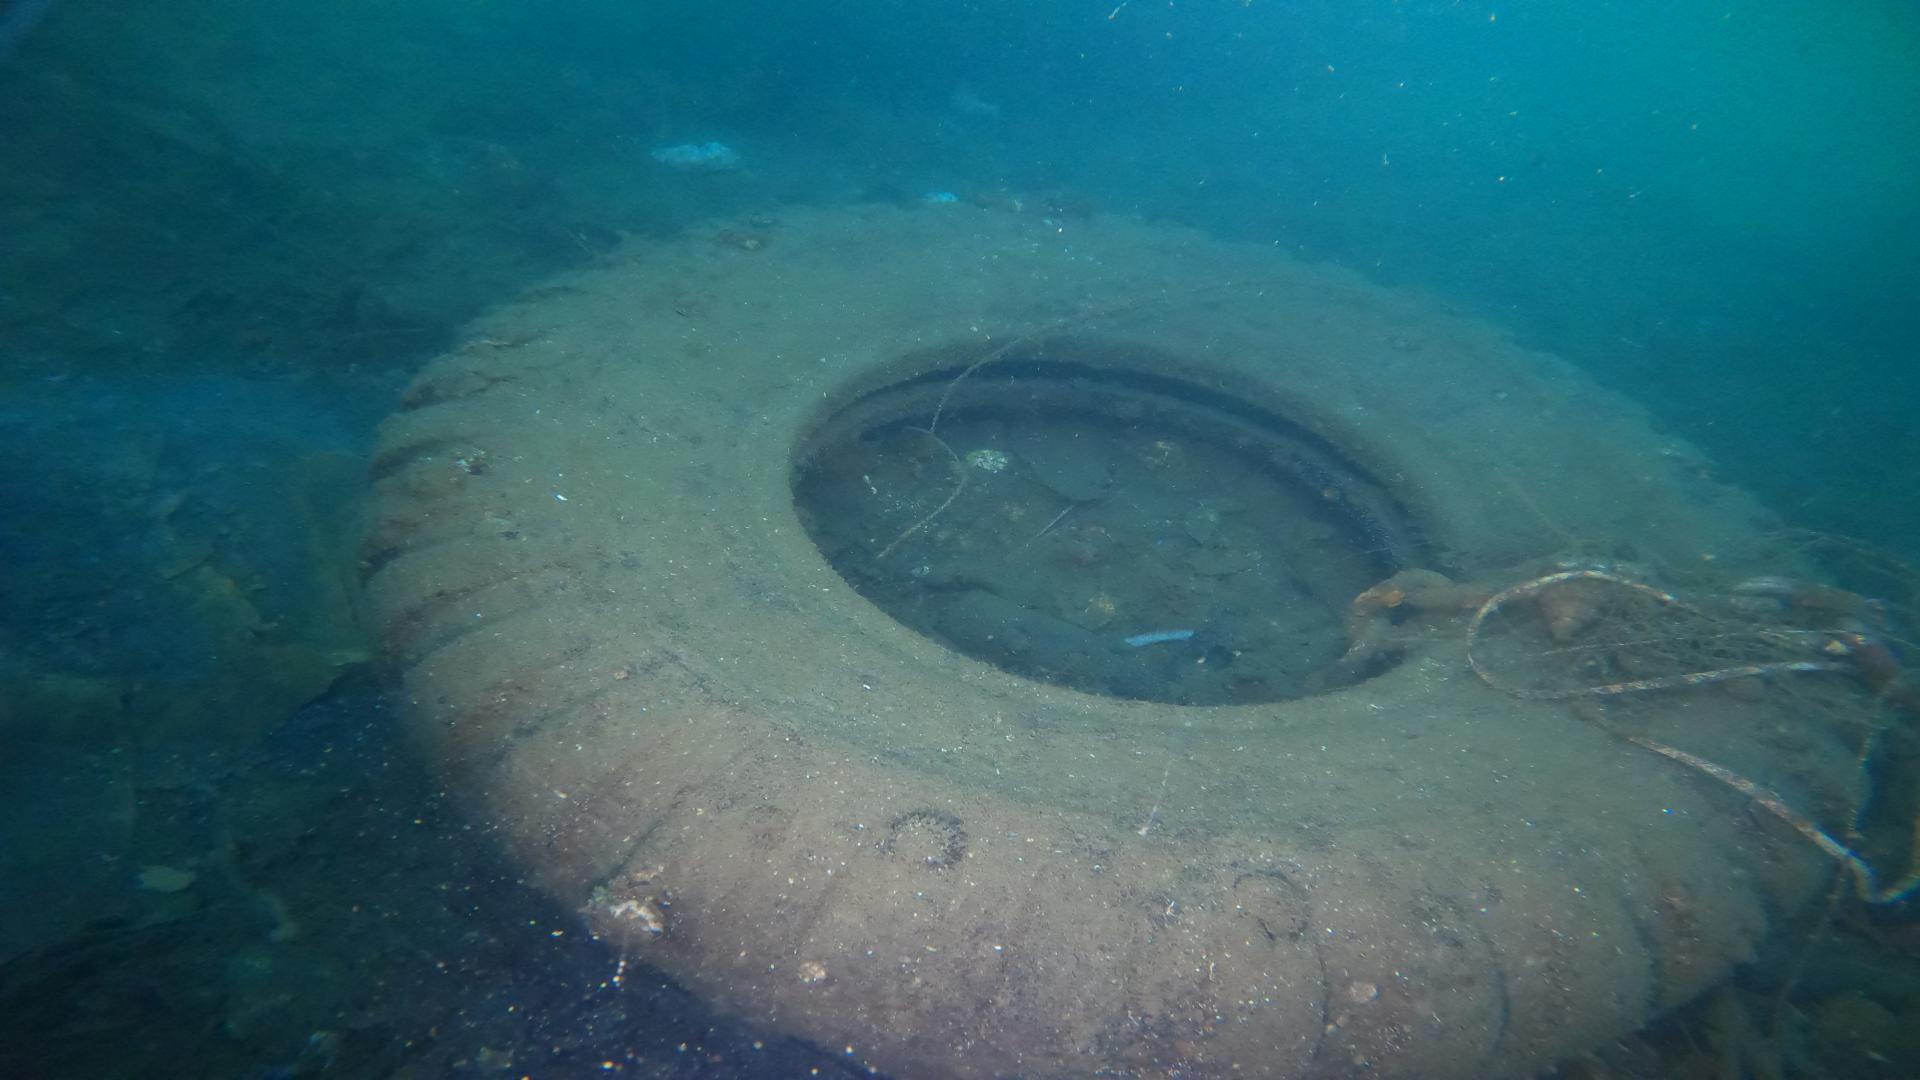tire: (363, 202, 1879, 1080)
